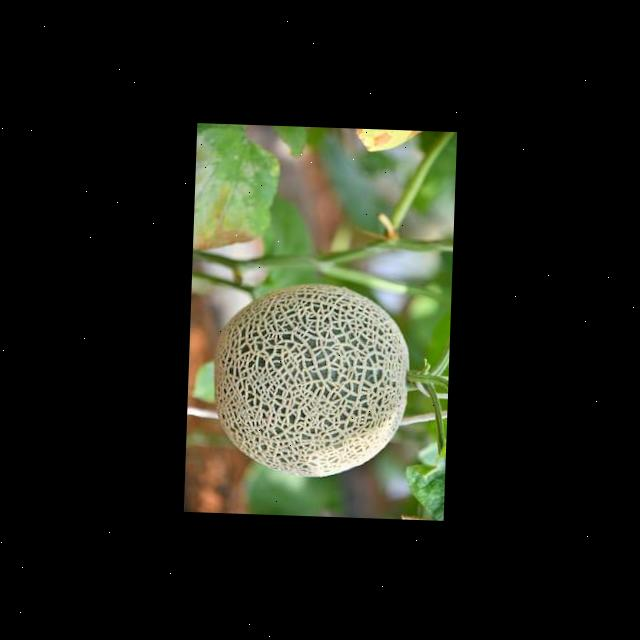Hami Melon: (212, 278, 412, 479)
